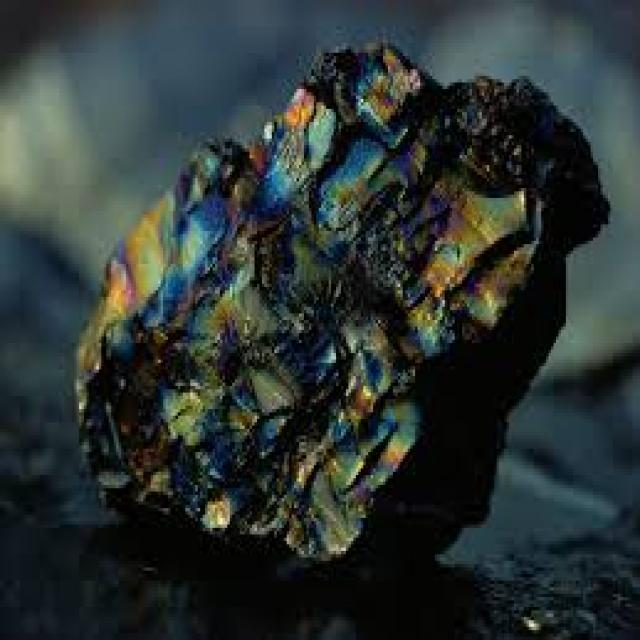Sedimentary: (69, 40, 603, 587)
